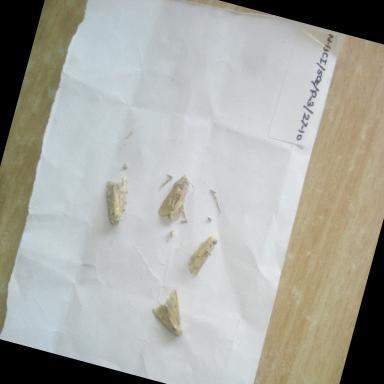abw: (150, 163, 206, 239), (143, 279, 198, 346), (92, 166, 140, 234), (180, 229, 228, 294)
